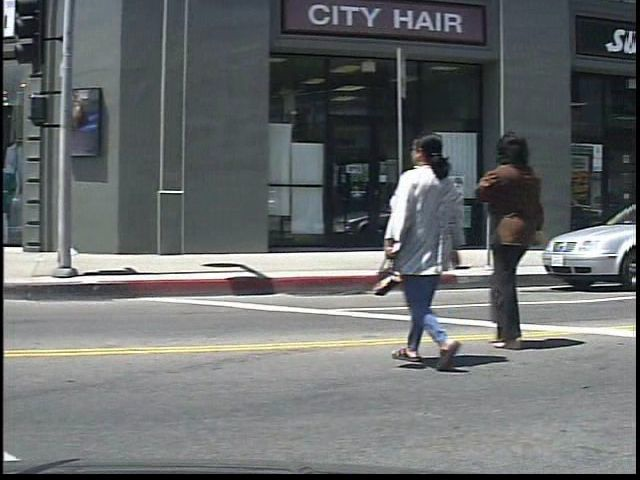person: (483, 125, 579, 354), (394, 122, 478, 371)
